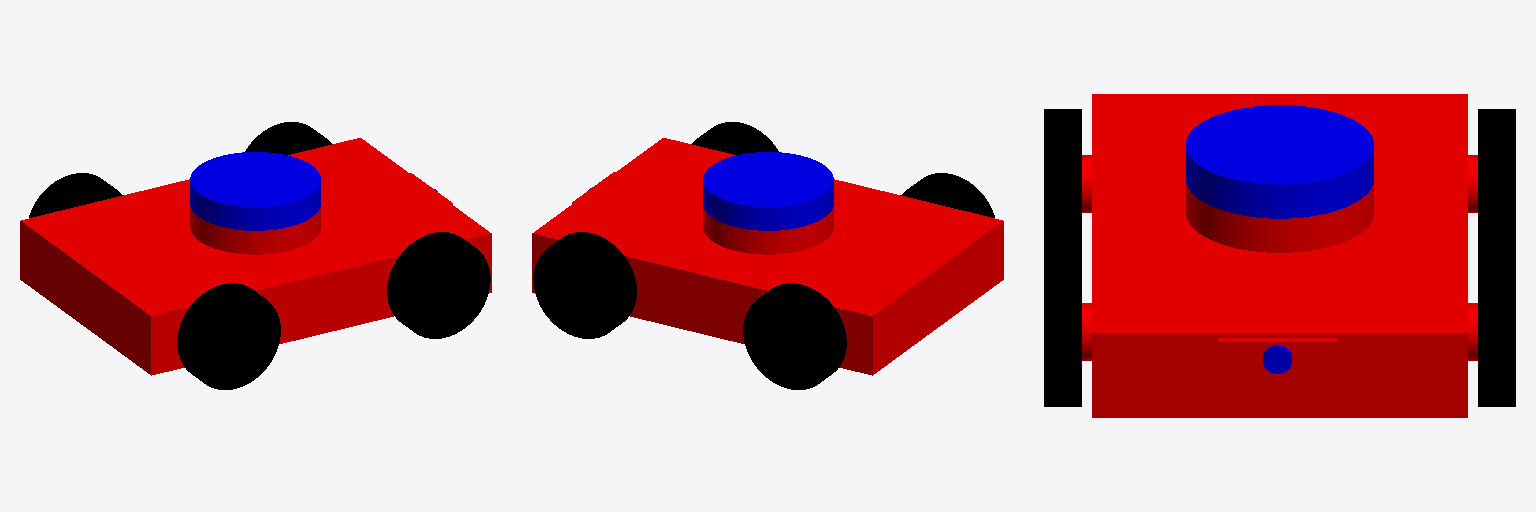
URDF robot description (robot_fourW):
<?xml version='1.0' encoding='utf-8'?>
<robot name="robot_fourW">
    <link name="brw">
        <inertial>
            <origin xyz="-3.8343381447702995e-09 -4.798902324409937e-09 0.10000000194436343" rpy="0.0 -0.0 0.0" />
            <mass value="1" />
            <inertia ixx="34.19728323184722" iyy="34.19728323189048" izz="63.13344596655185" ixy="-1.7337242752546445e-12" iyz="1.5276668818842154e-12" ixz="1.0942358130705543e-12" />
        </inertial>
        <visual name="brw_visual">
            <origin xyz="1.008396071793393 -0.4648275573294051 -1.3260599966876803" rpy="-1.5707963267948963 -4.91273688396632e-15 1.873501354054936e-16" />
            <geometry>
                <mesh filename="meshes/brw.stl" scale="0.001 0.001 0.001" />
            </geometry>
            <material name="Black"> <color rgba="0.0 0.0 0.0 1.0"/></material>
        </visual>
        <collision name="brw_collision">
            <origin xyz="1.008396071793393 -0.4648275573294051 -1.3260599966876803" rpy="-1.5707963267948963 -4.91273688396632e-15 1.873501354054936e-16" />
            <geometry>
                <mesh filename="meshes/brw.stl" scale="0.001 0.001 0.001" />
            </geometry>
        </collision>
    </link>
    <link name="base_link">
        <inertial>
            <origin xyz="-1.353698598503849 -0.07231040440728938 0.4831170589118242" rpy="0.0 0.0 0.0" />
            <mass value="5" />
            <inertia ixx="8692.521269052417" iyy="18593.069135791302" izz="26006.184467637227" ixy="0.9622031836888207" iyz="0.06667300271711478" ixz="-6.4560191517398975" />
        </inertial>
        <visual name="base_link_visual">
            <origin xyz="0.0 0.0 0.0" rpy="0.0 0.0 0.0" />
            <geometry>
                <mesh filename="meshes/base_link.stl" scale="0.001 0.001 0.001" />
            </geometry>
            <material name="Red"> <color rgba="1.0 0.0 0.0 1.0"/></material>
        </visual>
        <collision name="base_link_collision">
            <origin xyz="0.0 0.0 0.0" rpy="0.0 0.0 0.0" />
            <geometry>
                <mesh filename="meshes/base_link.stl" scale="0.001 0.001 0.001" />
            </geometry>
        </collision>
    </link>
    <link name="lidar">
        <inertial>
            <origin xyz="1.2563089057948674e-09 3.1544848866360555e-09 0.0999999999079445" rpy="0.0 -0.0 0.0" />
            <mass value="0.5" />
            <inertia ixx="81.17744517179653" iyy="81.17744517185247" izz="154.1343895667851" ixy="-1.3642420526593924e-12" iyz="-2.0463630789890885e-12" ixz="-1.5916157281026244e-12" />
        </inertial>
        <visual name="lidar_visual">
            <origin xyz="1.3596570717933776 0.07228508414369614 -0.9155824778108631" rpy="-2.98372437868009e-16 -1.873501354054936e-16 -4.91273688396632e-15" />
            <geometry>
                <mesh filename="meshes/lidar.stl" scale="0.001 0.001 0.001" />
            </geometry>
            <material name="Blue"> <color rgba="0.0 0.0 1.0 1.0"/></material>
        </visual>
        <collision name="lidar_collision">
            <origin xyz="1.3596570717933776 0.07228508414369614 -0.9155824778108631" rpy="-2.98372437868009e-16 -1.873501354054936e-16 -4.91273688396632e-15" />
            <geometry>
                <mesh filename="meshes/lidar.stl" scale="0.001 0.001 0.001" />
            </geometry>
        </collision>
    </link>
    <link name="flw">
        <inertial>
            <origin xyz="-3.834348945019883e-09 4.798900405944551e-09 0.09999999805563903" rpy="0.0 -0.0 0.0" />
            <mass value="1" />
            <inertia ixx="34.1972832318379" iyy="34.19728323189156" izz="63.13344596654861" ixy="1.9326762412674725e-12" iyz="1.9326762412674725e-12" ixz="-9.094947017729282e-13" />
        </inertial>
        <visual name="flw_visual">
            <origin xyz="0.912643425060391 0.6190515632385829 -1.4873192080396729" rpy="1.5707963267948968 4.91273688396632e-15 -1.873501354054936e-16" />
            <geometry>
                <mesh filename="meshes/flw.stl" scale="0.001 0.001 0.001" />
            </geometry>
            <material name="Black"> <color rgba="0.0 0.0 0.0 1.0"/></material>
        </visual>
        <collision name="flw_collision">
            <origin xyz="0.912643425060391 0.6190515632385829 -1.4873192080396729" rpy="1.5707963267948968 4.91273688396632e-15 -1.873501354054936e-16" />
            <geometry>
                <mesh filename="meshes/flw.stl" scale="0.001 0.001 0.001" />
            </geometry>
        </collision>
    </link>
    <link name="frw">
        <inertial>
            <origin xyz="-3.834305744021549e-09 -4.7989019691385695e-09 0.10000000194436882" rpy="0.0 -0.0 0.0" />
            <mass value="1" />
            <inertia ixx="34.19728323141587" iyy="34.197283231904294" izz="63.1334459665386" ixy="-1.7621459846850485e-11" iyz="1.6434853478131117e-11" ixz="1.617195266589988e-11" />
        </inertial>
        <visual name="frw_visual">
            <origin xyz="-0.6873565749395758 -0.6190515632385847 -5.712680791960349" rpy="-1.5707963267948963 -4.91273688396632e-15 1.873501354054936e-16" />
            <geometry>
                <mesh filename="meshes/frw.stl" scale="0.001 0.001 0.001" />
            </geometry>
            <material name="Black"> <color rgba="0.0 0.0 0.0 1.0"/></material>
        </visual>
        <collision name="frw_collision">
            <origin xyz="-0.6873565749395758 -0.6190515632385847 -5.712680791960349" rpy="-1.5707963267948963 -4.91273688396632e-15 1.873501354054936e-16" />
            <geometry>
                <mesh filename="meshes/frw.stl" scale="0.001 0.001 0.001" />
            </geometry>
        </collision>
    </link>
    <link name="blw">
        <inertial>
            <origin xyz="-3.834327344520716e-09 4.7989005480530975e-09 0.09999999805565722" rpy="0.0 -0.0 0.0" />
            <mass value="1" />
            <inertia ixx="34.19728323186973" iyy="34.19728323196341" izz="63.133445966618694" ixy="3.780087354243733e-12" iyz="2.9558577807620168e-12" ixz="-3.183231456205249e-12" />
        </inertial>
        <visual name="blw_visual">
            <origin xyz="2.5626434250603904 0.6190515632385832 -0.03731920803967313" rpy="1.5707963267948968 4.91273688396632e-15 -1.873501354054936e-16" />
            <geometry>
                <mesh filename="meshes/blw.stl" scale="0.001 0.001 0.001" />
            </geometry>
            <material name="Black"> <color rgba="0.0 0.0 0.0 1.0"/></material>
        </visual>
        <collision name="blw_collision">
            <origin xyz="2.5626434250603904 0.6190515632385832 -0.03731920803967313" rpy="1.5707963267948968 4.91273688396632e-15 -1.873501354054936e-16" />
            <geometry>
                <mesh filename="meshes/blw.stl" scale="0.001 0.001 0.001" />
            </geometry>
        </collision>
    </link>
    <link name="camera">
        <inertial>
            <origin xyz="1.6458219675996589e-09 -5.667908453688142e-10 0.015000001843940253" rpy="0.0 -0.0 0.0" />
            <mass value="0.2" />
            <inertia ixx="0.007183942979018809" iyy="0.007183942979011704" izz="0.013692703347185642" ixy="-3.5419573509136786e-34" iyz="3.552713678800501e-15" ixz="-2.6645352591003757e-15" />
        </inertial>
        <visual name="camera_visual">
            <origin xyz="-0.5861970373707414 -0.08539349414369667 -0.1822674953354516" rpy="-3.141592653589793 -1.5707963267948917 0" />
            <geometry>
                <mesh filename="meshes/camera.stl" scale="0.001 0.001 0.001" />
            </geometry>
            <material name="Blue"> <color rgba="0.0 0.0 1.0 1.0"/></material>
        </visual>
        <collision name="camera_collision">
            <origin xyz="-0.5861970373707414 -0.08539349414369667 -0.1822674953354516" rpy="-3.141592653589793 -1.5707963267948917 0" />
            <geometry>
                <mesh filename="meshes/camera.stl" scale="0.001 0.001 0.001" />
            </geometry>
        </collision>
    </link>



    <!--=======================================Joints===================================-->

    <joint name="base_link_joint_frw" type="continuous">
        <origin xyz="-0.4083960717933755 -1.1222850641436977 0.4653274178108625" rpy="1.570796326794897 1.8735013540549048e-16 4.912736883966281e-15" />
        <parent link="base_link" />
        <child link="frw" />
        <axis xyz="0 0 -1" />
    </joint>
    <joint name="base_link_joint_brw" type="continuous">
        <origin xyz="-2.2583960717933897 -1.1222850641437068 0.4653274178108629" rpy="1.570796326794897 1.8735013540549048e-16 4.912736883966281e-15" />
        <parent link="base_link" />
        <child link="brw" />
        <axis xyz="0 0 -1" />
        <!-- <mimic joint="base_link_joint_frw" multiplier="1.0" offset="0.0"/> -->
    </joint>
    <joint name="base_link_joint_flw" type="continuous">
        <origin xyz="-0.4083960717933846 0.9777149358563016 0.4653274178108632" rpy="-1.5707963267948963 1.8735013540549048e-16 4.912736883966281e-15" />
        <parent link="base_link" />
        <child link="flw" />
        <axis xyz="0 0 1" />
    </joint>
    <joint name="base_link_joint_blw" type="continuous">
        <origin xyz="-2.2583960717933986 0.9777149358562927 0.4653274178108635" rpy="-1.5707963267948963 1.8735013540549048e-16 4.912736883966281e-15" />
        <parent link="base_link" />
        <child link="blw" />
        <axis xyz="0 0 1" />
        <!-- <mimic joint="base_link_joint_flw" multiplier="1.0" offset="0.0"/> -->
    </joint>
    <joint name="base_link_joint_lidar" type="continuous">
        <origin xyz="-1.359657071793387 -0.07228508414370254 0.9155824778108627" rpy="2.9837243786801003e-16 1.8735013540549048e-16 4.912736883966281e-15" />
        <parent link="base_link" />
        <child link="lidar" />
        <axis xyz="0.0 4.930380657631324e-32 1.0" />
    </joint>
    <joint name="base_link_joint_cam" type="fixed">
        <origin xyz="0.19339463820662559 -0.08539349414369497 0.5885762978108627" rpy="-3.1415926535897882 -1.5707963267948957 0" />
        <parent link="base_link" />
        <child link="camera" />
    </joint>


    <gazebo>
        <plugin
            filename="libignition-gazebo-diff-drive-system.so"
            name="ignition::gazebo::systems::DiffDrive">
            <left_joint>base_link_joint_flw</left_joint>
            <right_joint>base_link_joint_frw</right_joint>
            <wheel_separation>2.0</wheel_separation>
            <wheel_radius>0.4</wheel_radius>
            <odom_publish_frequency>100</odom_publish_frequency>
            <topic>cmd_vel</topic>
        </plugin>
    </gazebo>

</robot>


--- Facts derived from the render (not from the file) ---
Views: 3 orthographic renders of the robot side by side, from view 1: azimuth 30°, elevation 25°; view 2: azimuth 150°, elevation 25°; view 3: azimuth 270°, elevation 25°.
Robot: robot_fourW — 7 links, 6 joints (5 continuous, 1 fixed); root link base_link; default pose: all joints at 0.
Links seen in each view (by area): view 1: base_link, lidar, brw, frw, blw, flw; view 2: base_link, lidar, blw, flw, brw, frw; view 3: base_link, lidar, flw, frw, brw, blw, camera.
Boxes of the visible links, left/top/right/bottom form: base_link: left=20, top=138, right=491, bottom=375; lidar: left=190, top=152, right=320, bottom=230; brw: left=177, top=283, right=280, bottom=389; frw: left=387, top=232, right=490, bottom=338; blw: left=29, top=173, right=122, bottom=217; flw: left=245, top=122, right=331, bottom=154; base_link: left=532, top=138, right=1003, bottom=375; lidar: left=703, top=152, right=833, bottom=230; blw: left=743, top=283, right=846, bottom=389; flw: left=533, top=232, right=636, bottom=338; brw: left=901, top=173, right=994, bottom=217; frw: left=692, top=122, right=778, bottom=154; base_link: left=1082, top=94, right=1477, bottom=417; lidar: left=1186, top=105, right=1373, bottom=218; flw: left=1478, top=256, right=1515, bottom=406; frw: left=1044, top=256, right=1081, bottom=406; brw: left=1044, top=109, right=1081, bottom=255; blw: left=1478, top=109, right=1515, bottom=255; camera: left=1263, top=345, right=1291, bottom=373.
Size in the robot's own frame: 3.08 by 2.5 by 1.05 metres.
7 mesh visuals loaded from 7 distinct referenced files (7 binary STL).